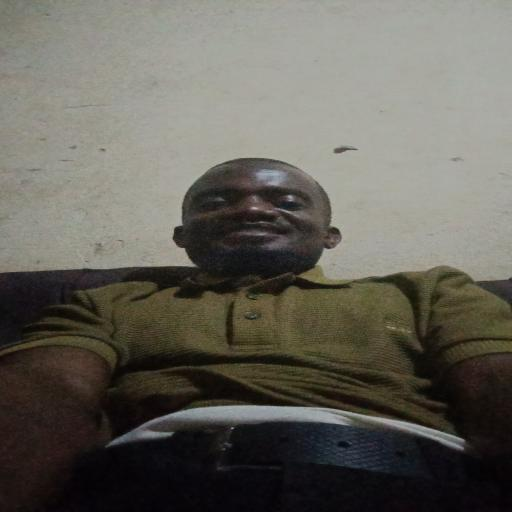MATTHIEU: (174, 149, 345, 299)
